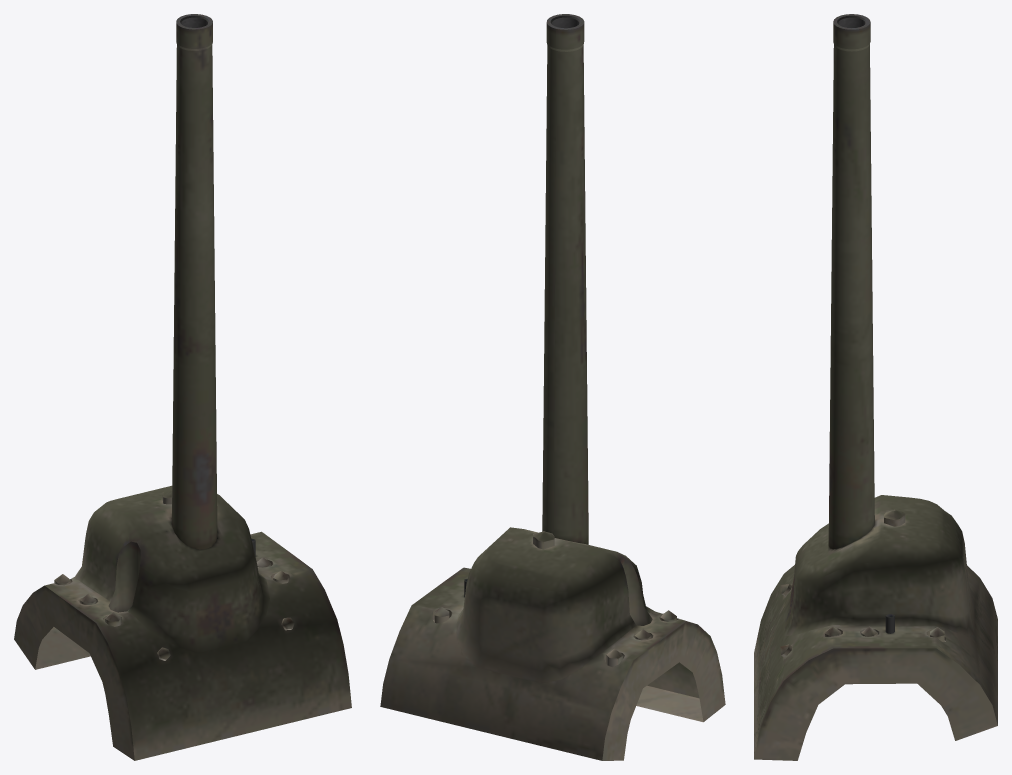
The model's file is Gun_03.glb.
3 views of the same model, side by side, from view 1: azimuth 30°, elevation 25°; view 2: azimuth 150°, elevation 25°; view 3: azimuth 270°, elevation 25° (orthographic). The views are drawn at different scales.
Visible parts, largest first — view 1: set_0_group_0; view 2: set_0_group_0; view 3: set_0_group_0.
Boxes of the visible parts, box(x1,y1,x2,y2) form: set_0_group_0: box(14, 14, 351, 760); set_0_group_0: box(380, 14, 725, 760); set_0_group_0: box(754, 14, 997, 760).
Size of the model in its own units: 0.7051 by 2.11 by 0.6786.
1 material, 1 textured.
